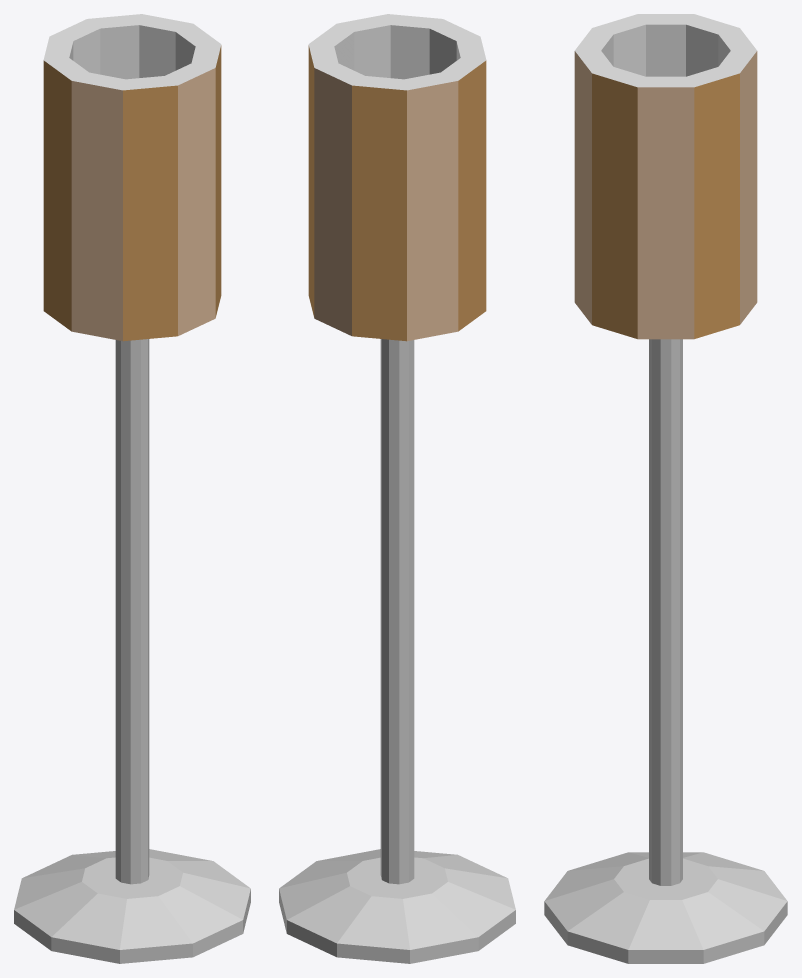
The model's file is long lamp.fbx.
3 renders of one model, left to right at view 1: azimuth 30°, elevation 25°; view 2: azimuth 150°, elevation 25°; view 3: azimuth 270°, elevation 25°, orthographic.
Parts seen in each view (by area): view 1: TallLamp1; view 2: TallLamp1; view 3: TallLamp1.
Part boxes in pixels (x1=…): TallLamp1: x1=14, y1=14, x2=250, y2=963; TallLamp1: x1=279, y1=14, x2=515, y2=963; TallLamp1: x1=544, y1=14, x2=787, y2=963.
Size of the model in its own units: 127 by 522 by 133.
